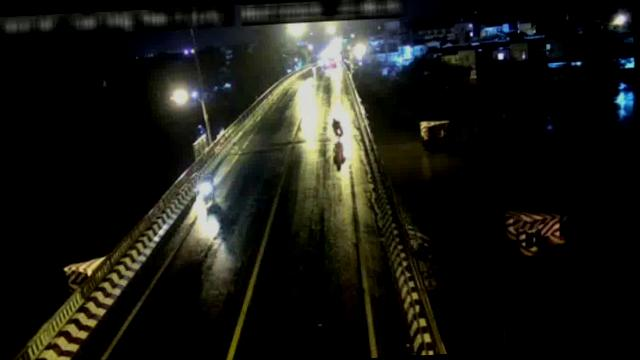Bike: (196, 174, 213, 202), (328, 116, 343, 138)
